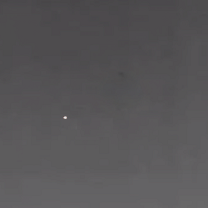Target: (62, 116, 69, 120)
